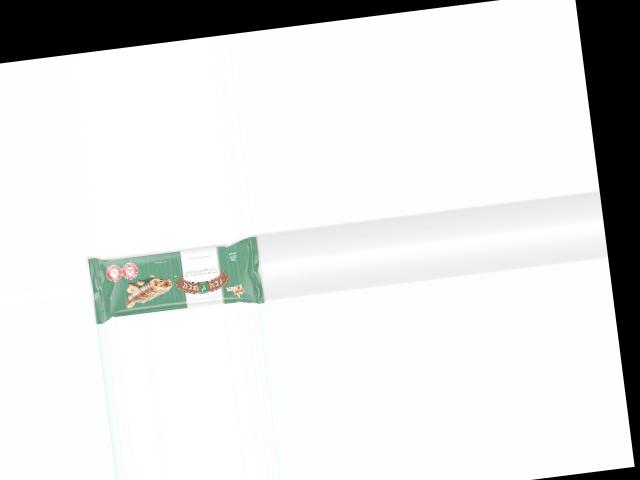chocolate: (86, 232, 267, 324)
